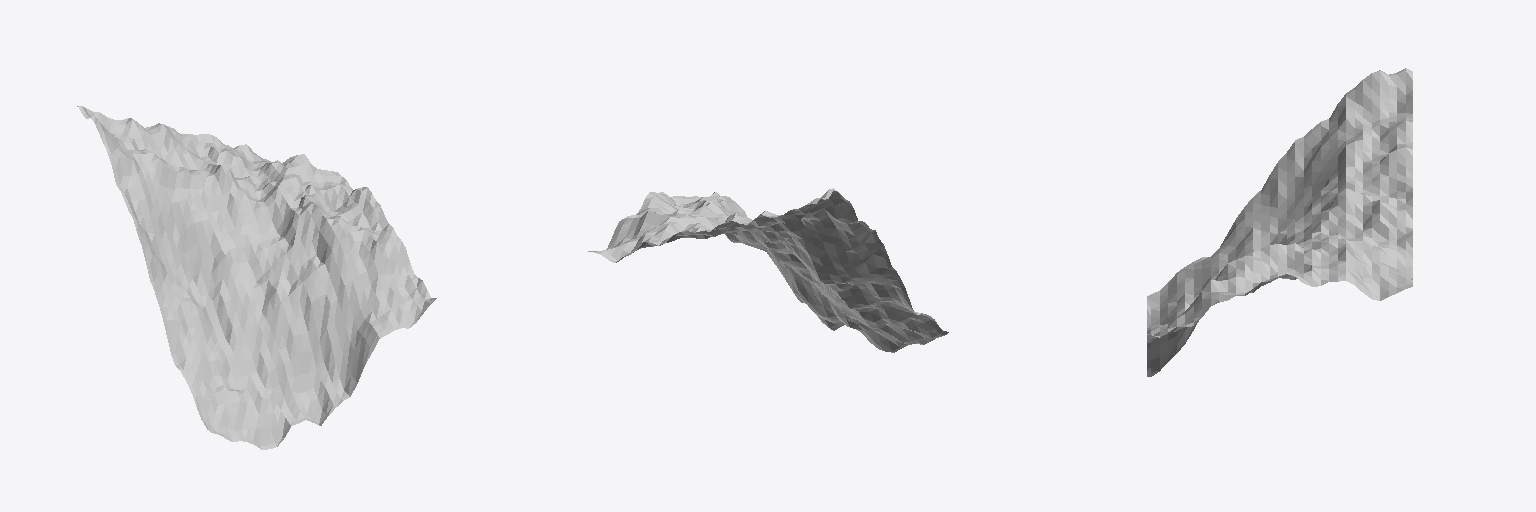
File: terrain_0_1.obj
3 renders of one model, left to right at view 1: azimuth 30°, elevation 25°; view 2: azimuth 150°, elevation 25°; view 3: azimuth 270°, elevation 25°, orthographic.
Visible parts, largest first — view 1: terrain_0_1_Plane.057; view 2: terrain_0_1_Plane.057; view 3: terrain_0_1_Plane.057.
Part boxes in pixels (x1,y1,x2,y2): terrain_0_1_Plane.057: (77,106,436,449); terrain_0_1_Plane.057: (588,188,948,352); terrain_0_1_Plane.057: (1147,68,1412,376).
Size of the model in its own units: 32 by 35.02 by 32.